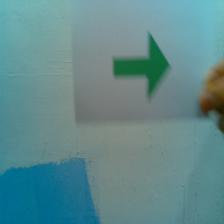right: (114, 30, 170, 98)
